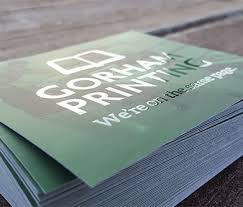book: (0, 29, 243, 189)
